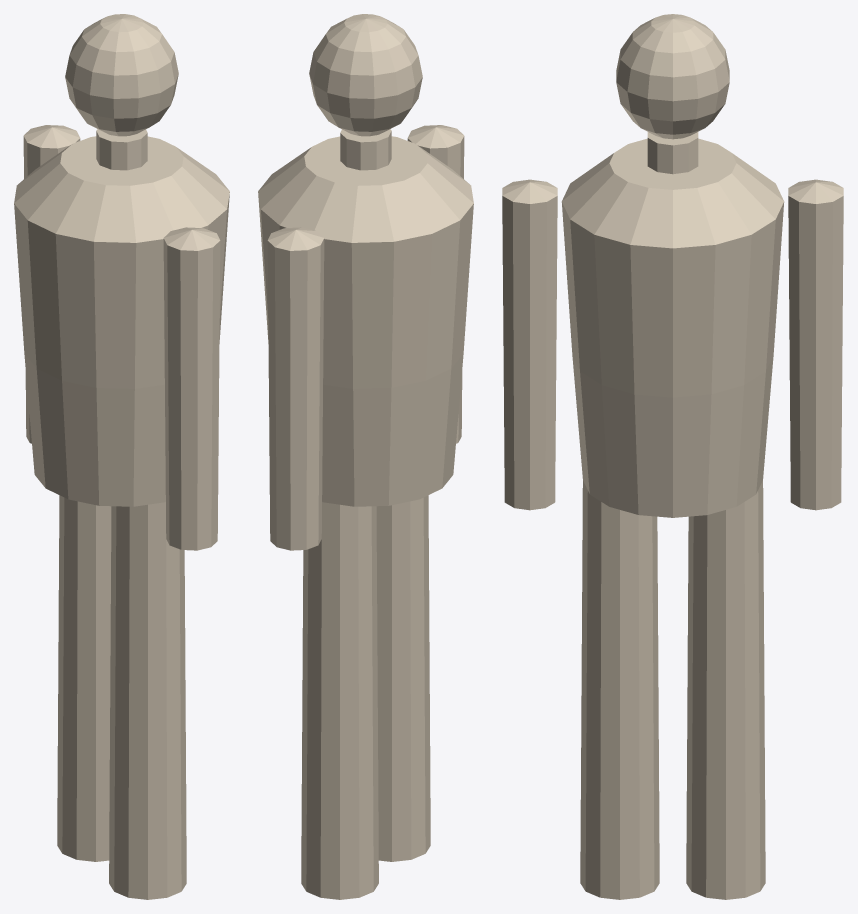
File: scale_figure_1p80.glb
3 views of the same model, side by side, from view 1: azimuth 30°, elevation 25°; view 2: azimuth 150°, elevation 25°; view 3: azimuth 270°, elevation 25° (orthographic). The views are drawn at different scales.
Visible parts, largest first — view 1: Scale_Figure_1p80m; view 2: Scale_Figure_1p80m; view 3: Scale_Figure_1p80m.
Boxes of the visible parts, x1,y1,x2,y2 form: Scale_Figure_1p80m: (14, 14, 229, 899); Scale_Figure_1p80m: (258, 14, 473, 899); Scale_Figure_1p80m: (502, 14, 843, 899).
Size of the model in its own units: 0.42 by 1.8 by 0.6446.
